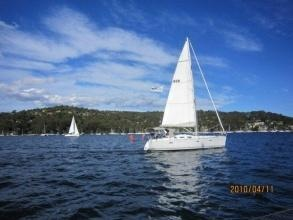fanchuan: (142, 33, 243, 151), (62, 113, 86, 137)
